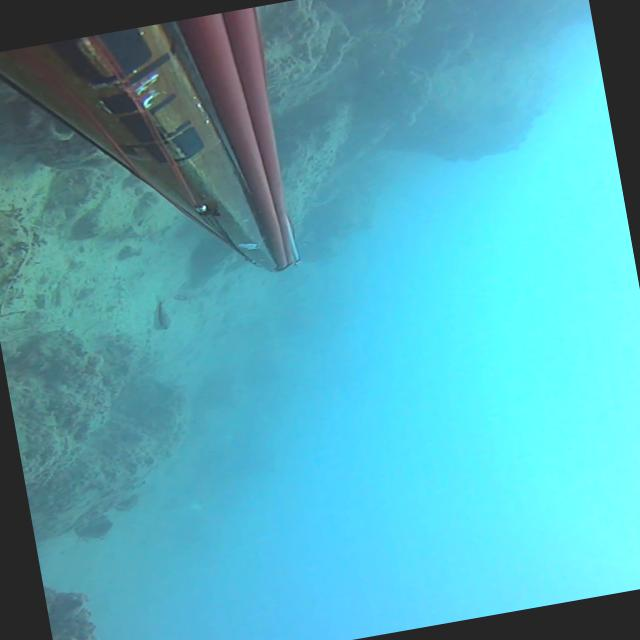Balon Baligi: (147, 294, 172, 332)
